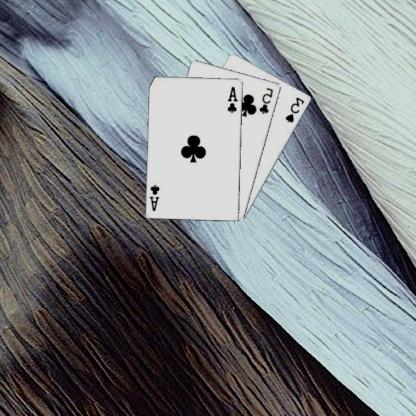3S: (285, 94, 308, 124)
5C: (258, 85, 276, 115)
AC: (149, 182, 163, 212), (227, 84, 241, 113)
